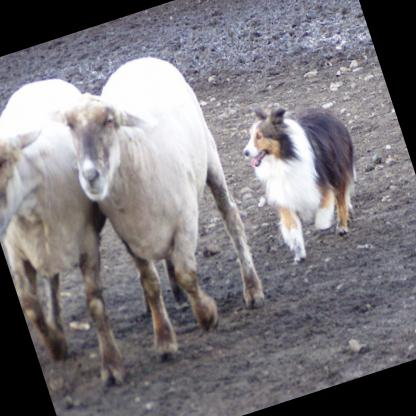Shetland_sheepdog: (230, 80, 384, 270)
